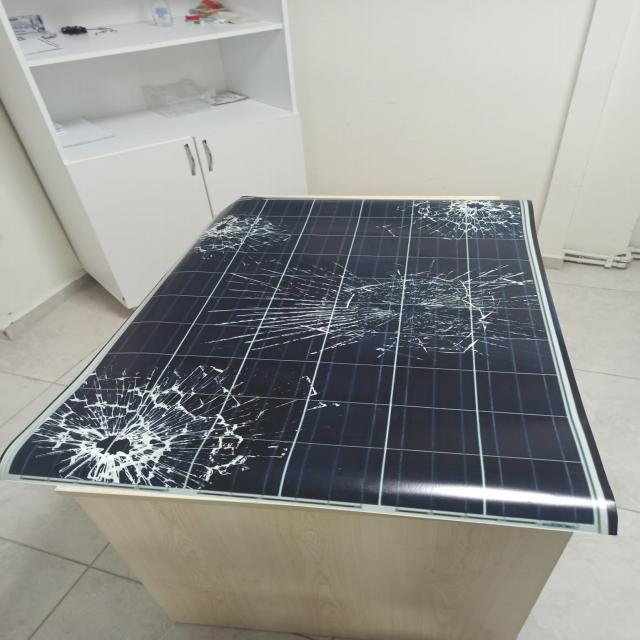faulty: (11, 196, 638, 534)
